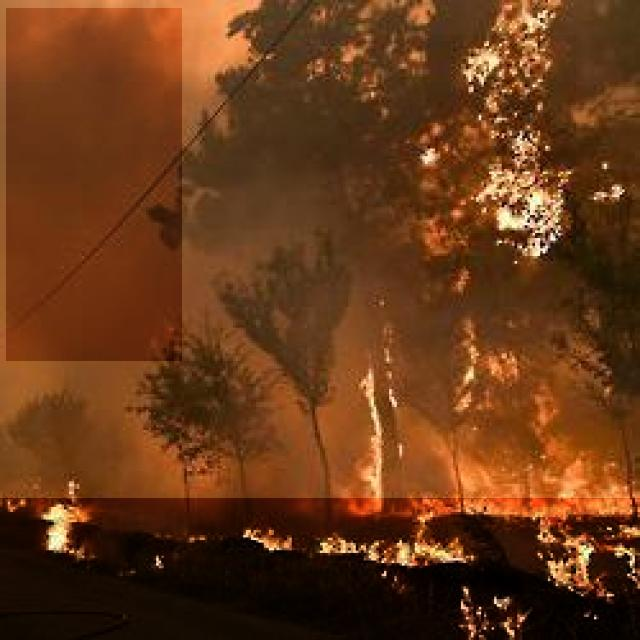Fire: (0, 498, 640, 640), (425, 35, 576, 241)
Smoke: (6, 8, 182, 361)
